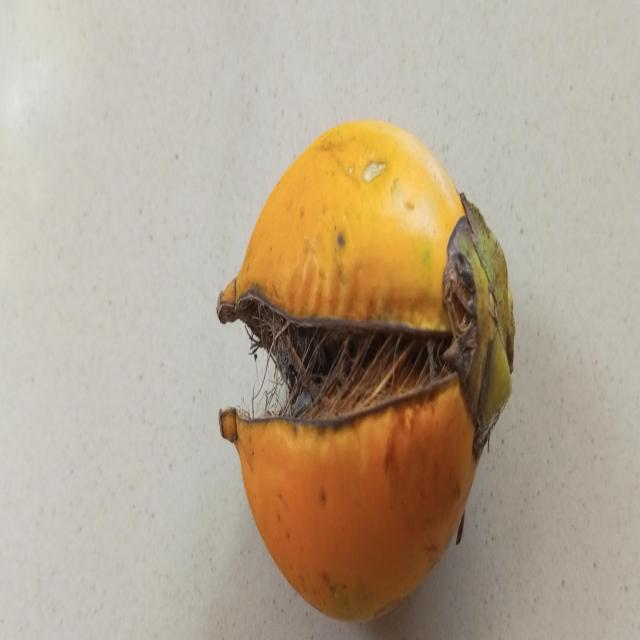damaged: (217, 121, 517, 622)
